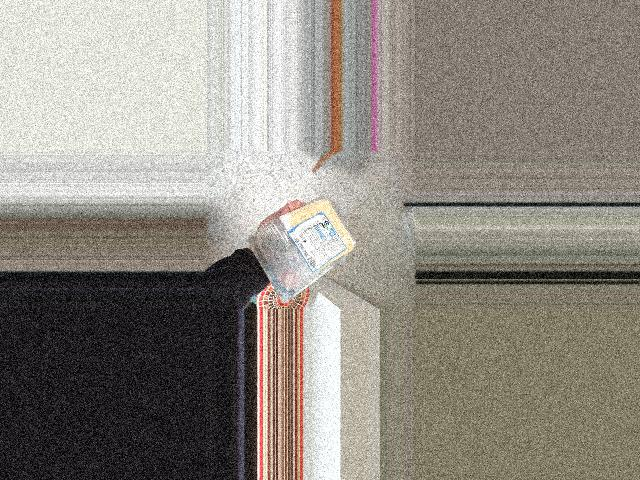cheese: (261, 210, 360, 293)
